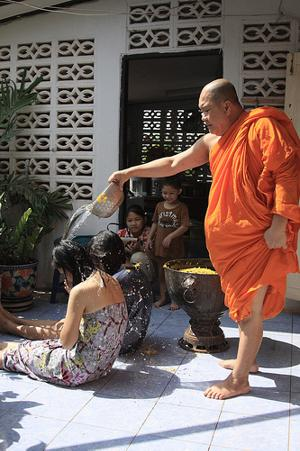person: (108, 77, 299, 402)
